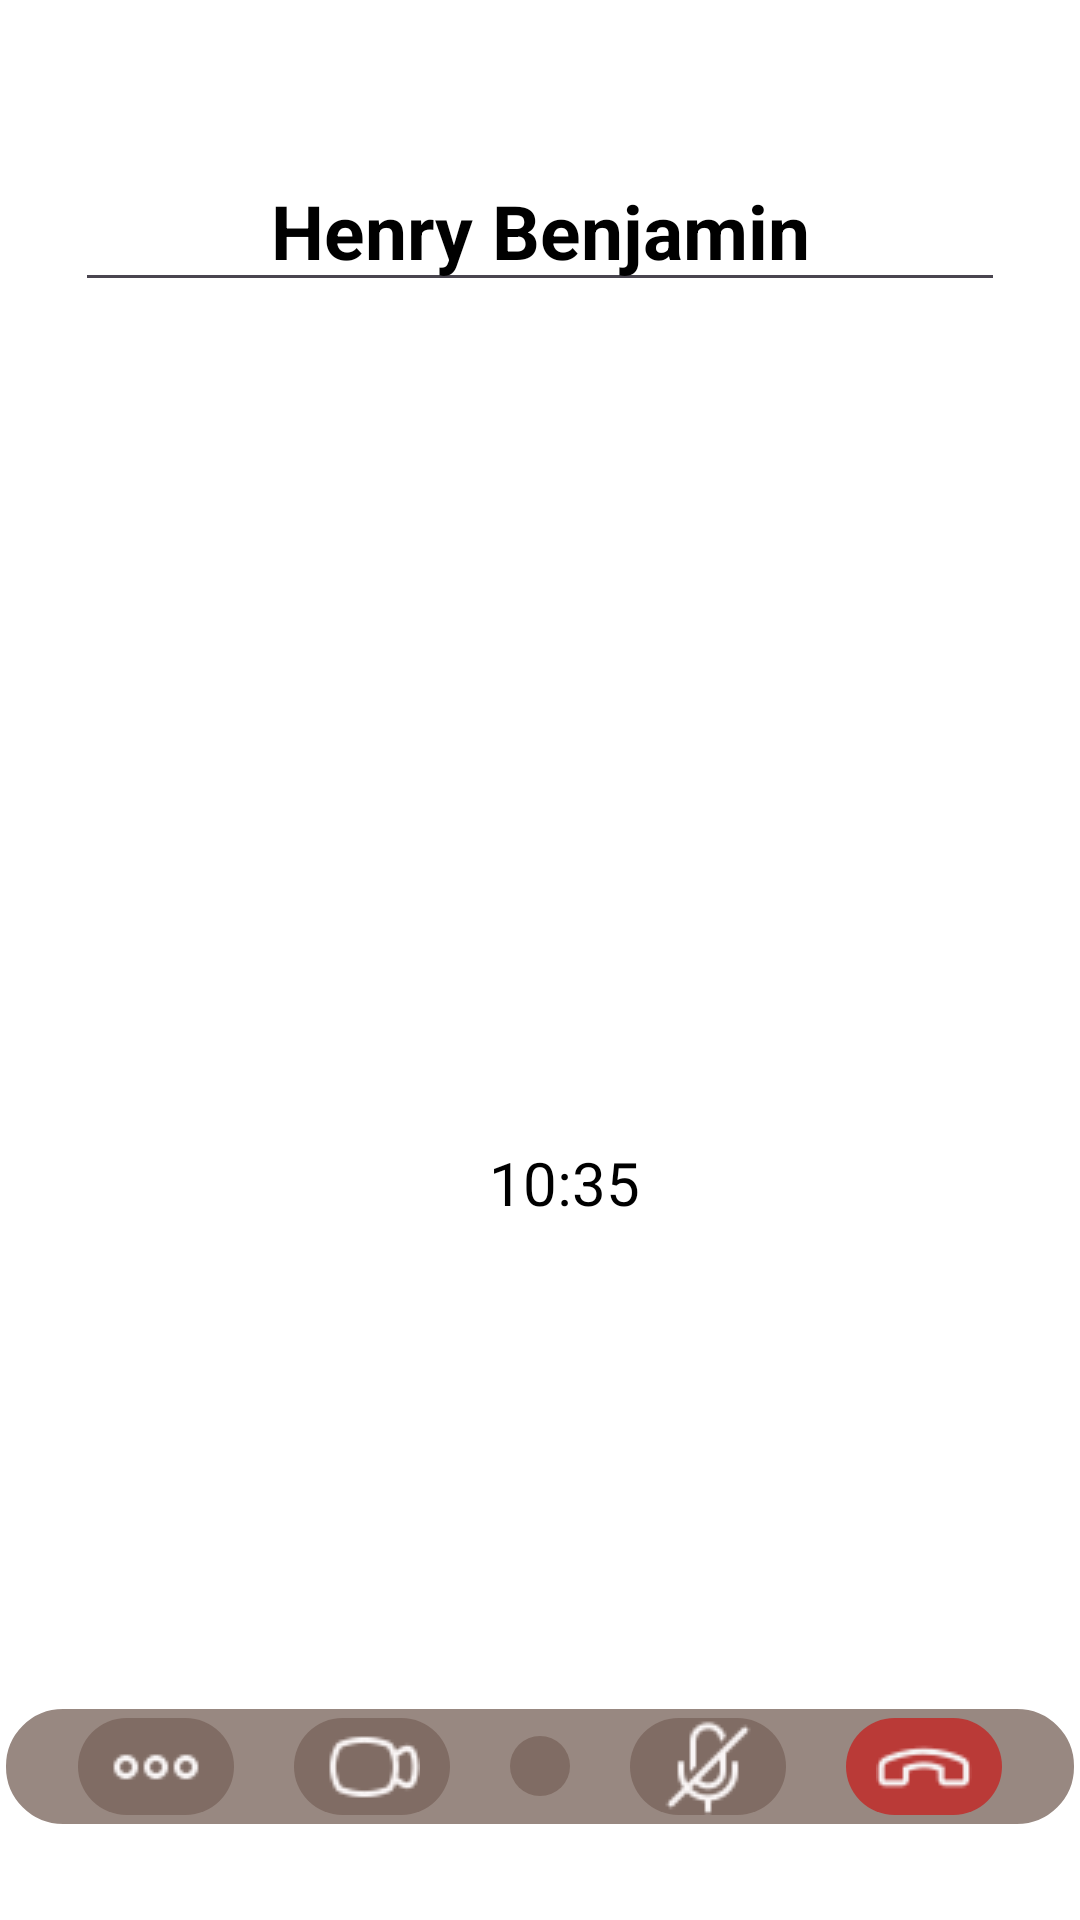

Named icons in this screenshot (1080 x 1920) and their centers, (x=x, y=y):
dots: (x=156, y=1766)
endcall: (x=924, y=1766)
mic: (x=708, y=1766)
vidcall: (x=372, y=1766)
